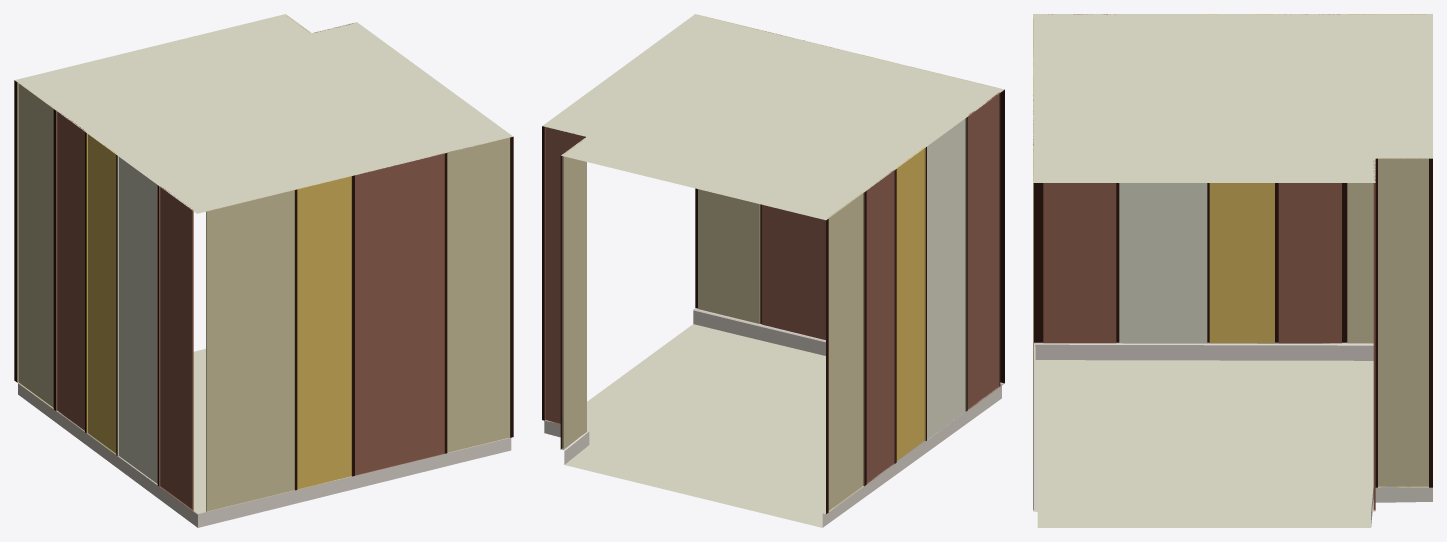
Rendered from CorridorCornerL (Untextured).fbx.
3 renders of one model, left to right at view 1: azimuth 30°, elevation 25°; view 2: azimuth 150°, elevation 25°; view 3: azimuth 270°, elevation 25°, orthographic. The views are drawn at different scales.
Parts seen in each view (by area): view 1: corridorCorner4; view 2: corridorCorner4; view 3: corridorCorner4.
Boxes of the visible parts, left/top/right/bottom form: corridorCorner4: left=14, top=14, right=513, bottom=527; corridorCorner4: left=542, top=14, right=1004, bottom=527; corridorCorner4: left=1033, top=14, right=1432, bottom=527.
Size of the model in its own units: 394 by 375 by 394.
